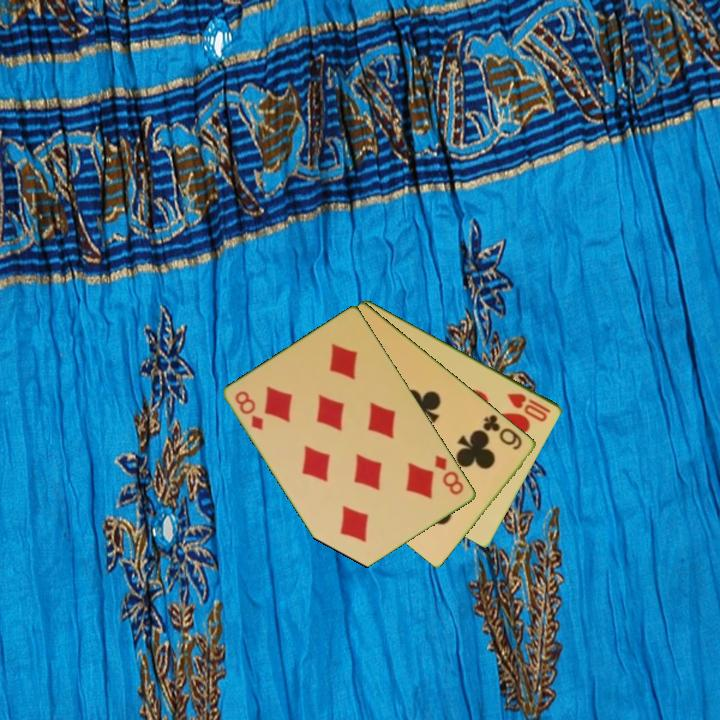10h: (504, 389, 554, 425)
6c: (480, 411, 526, 453)
8d: (431, 451, 467, 498), (232, 387, 267, 433)
